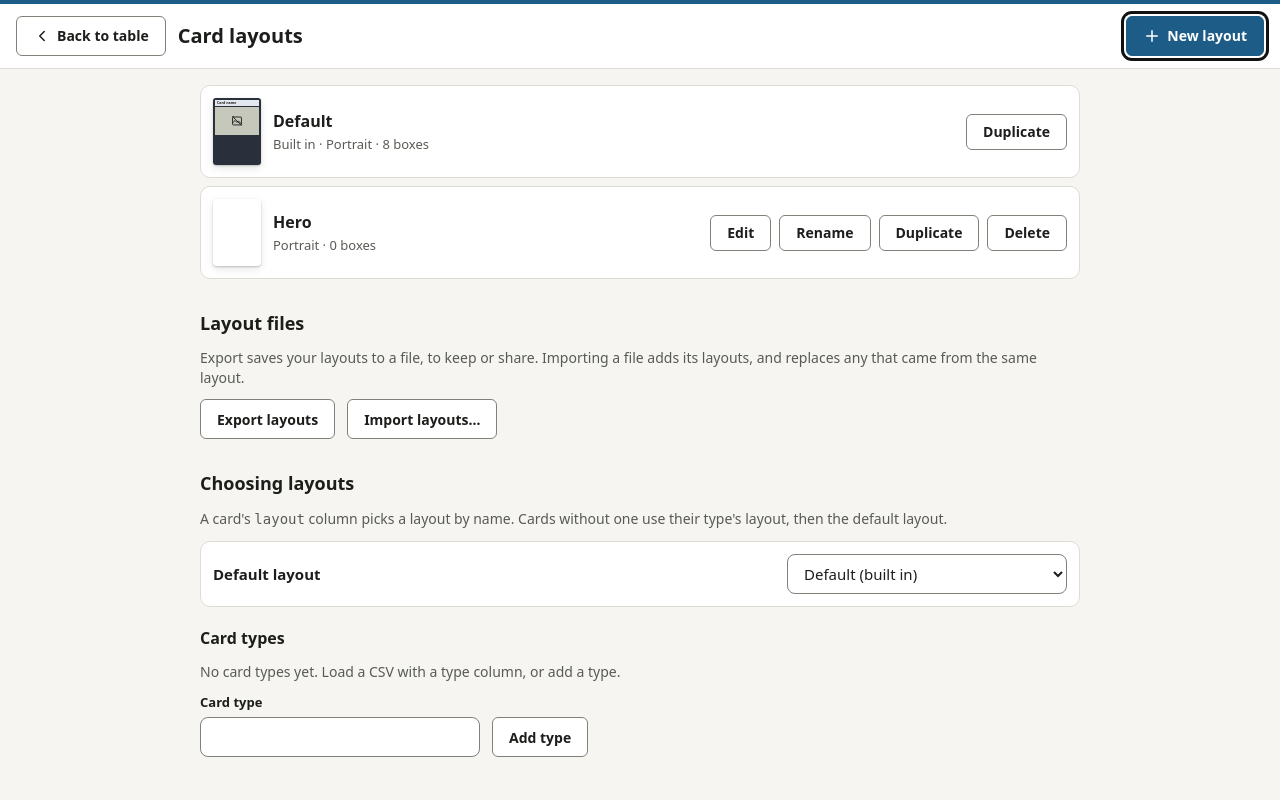
LY-2 layout canvas › switches the orientation, and the list shows it
Step 1. Click the button with aria-label "Edit Hero" → (741, 232), box [710,214,771,250]
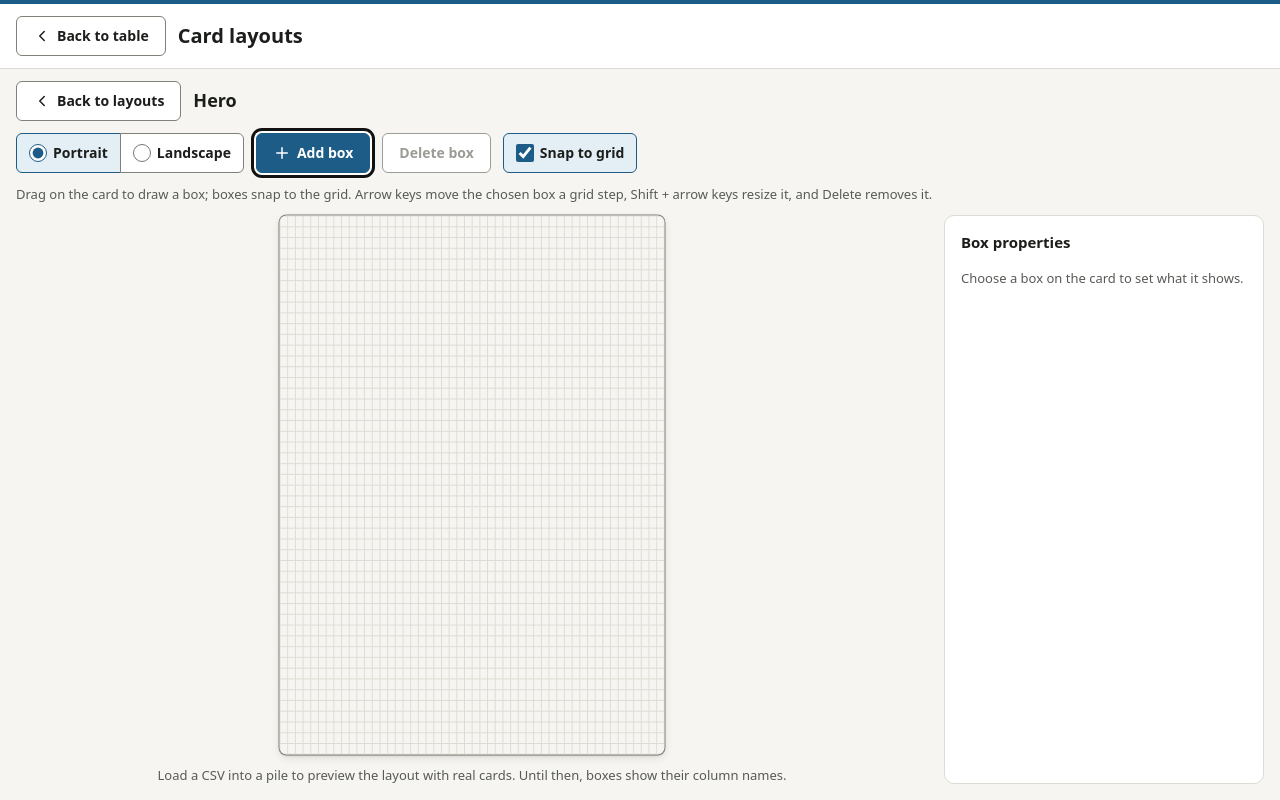
Check: the radio button labelled "Portrait" is checked, box [29,144,47,162]
Step 2. Click the radio button labelled "Landscape" → (142, 153), box [133,144,151,162]
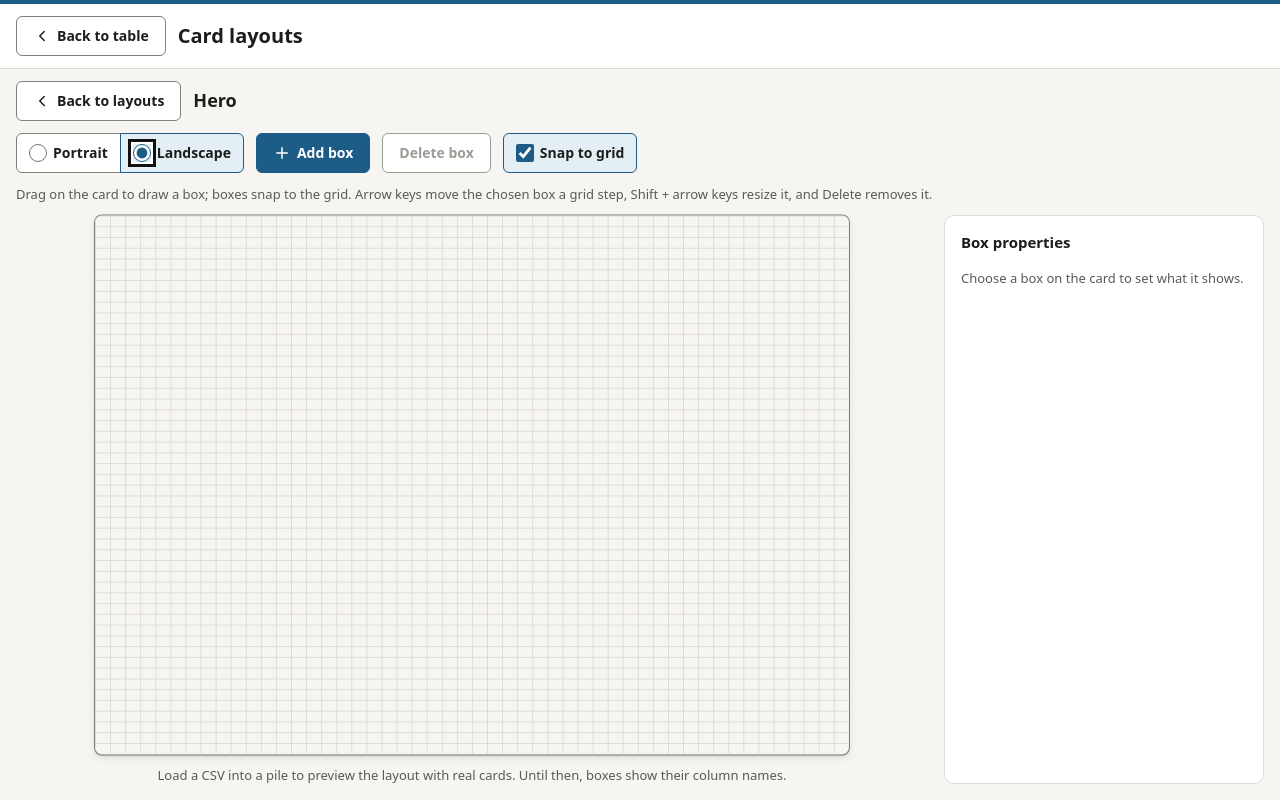
Check: the radio button labelled "Landscape" is checked, box [133,144,151,162]
Step 3. Click the button "Back to layouts" → (99, 101), box [16,81,181,121]
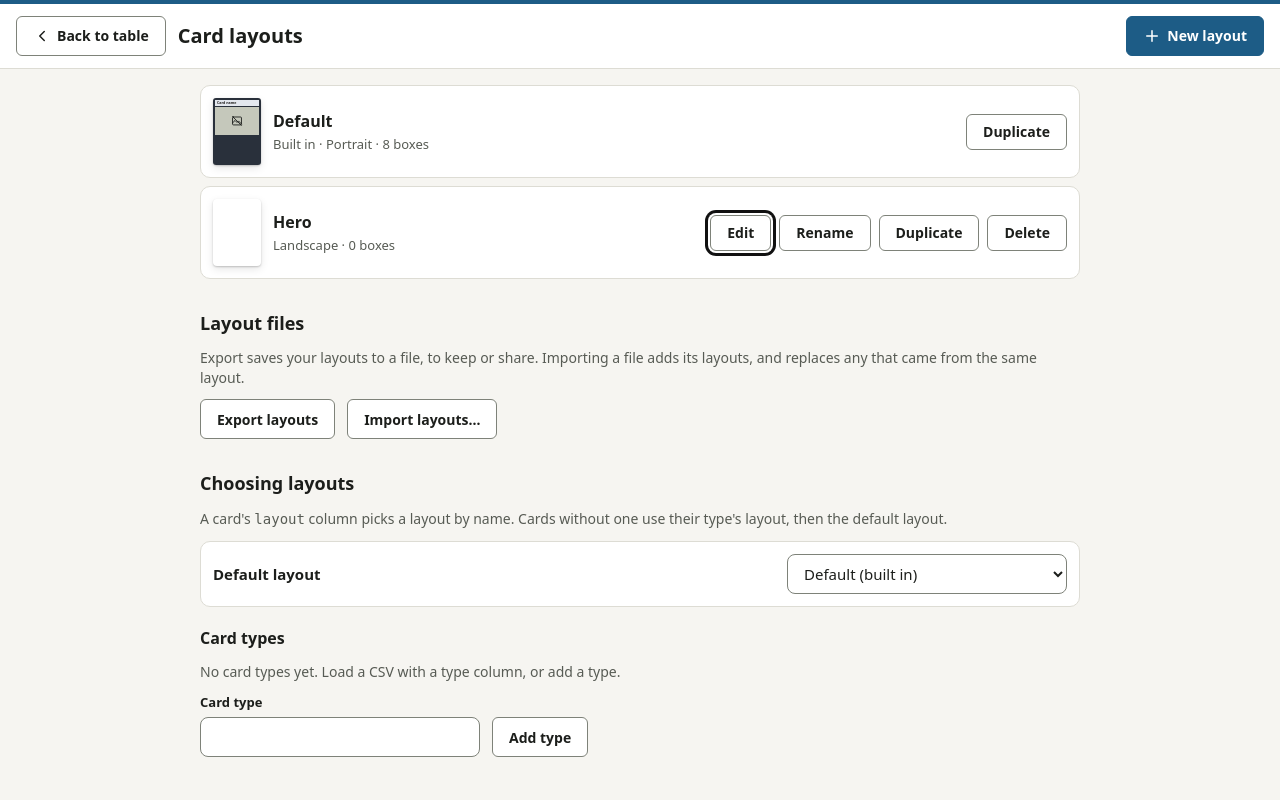
Check: the text "Landscape · 0 boxes" is shown, box [273,236,395,254]
